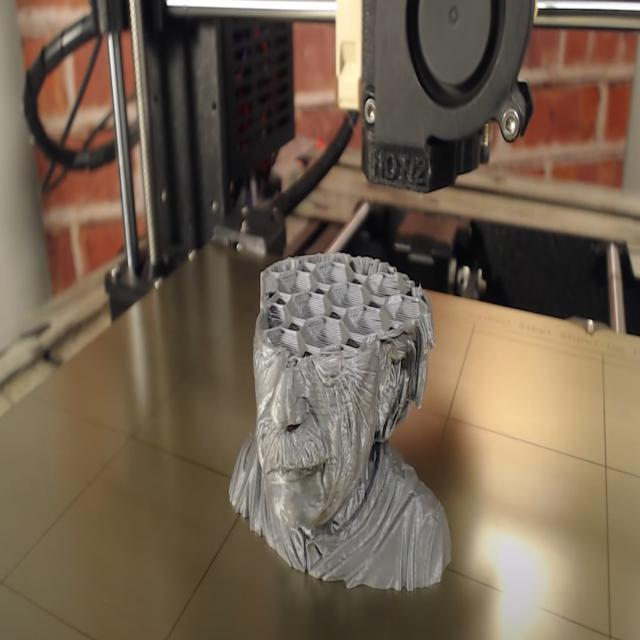Without deffect: (219, 231, 450, 617)
